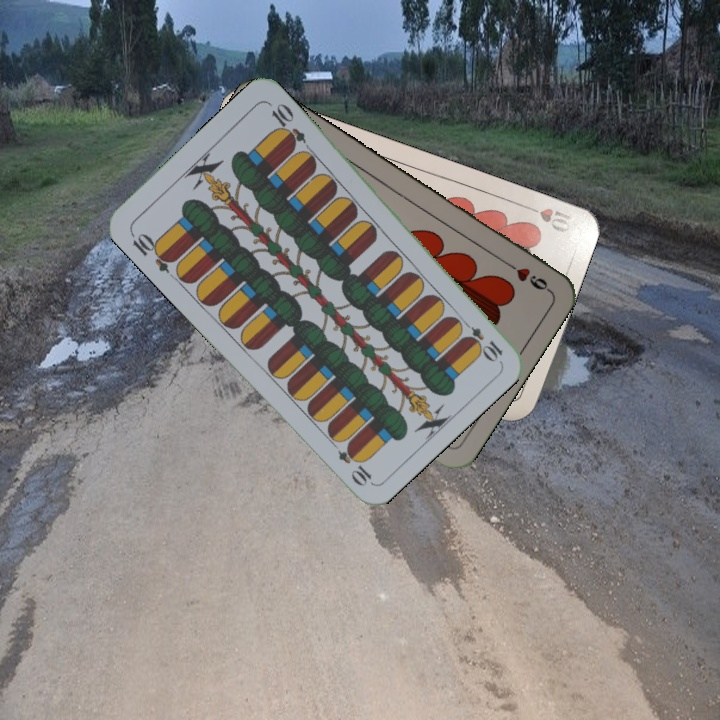E10: (456, 315, 506, 364), (126, 228, 178, 275)
H10: (519, 200, 578, 235)
H9: (500, 256, 552, 295)
